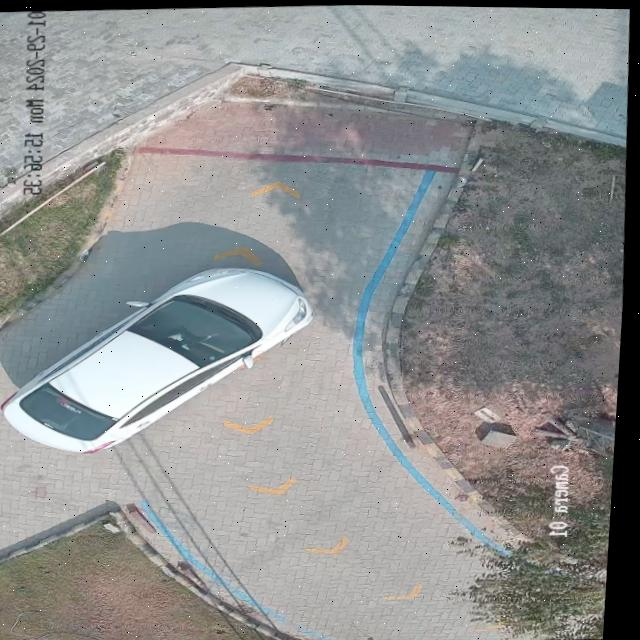car: (8, 265, 316, 451)
